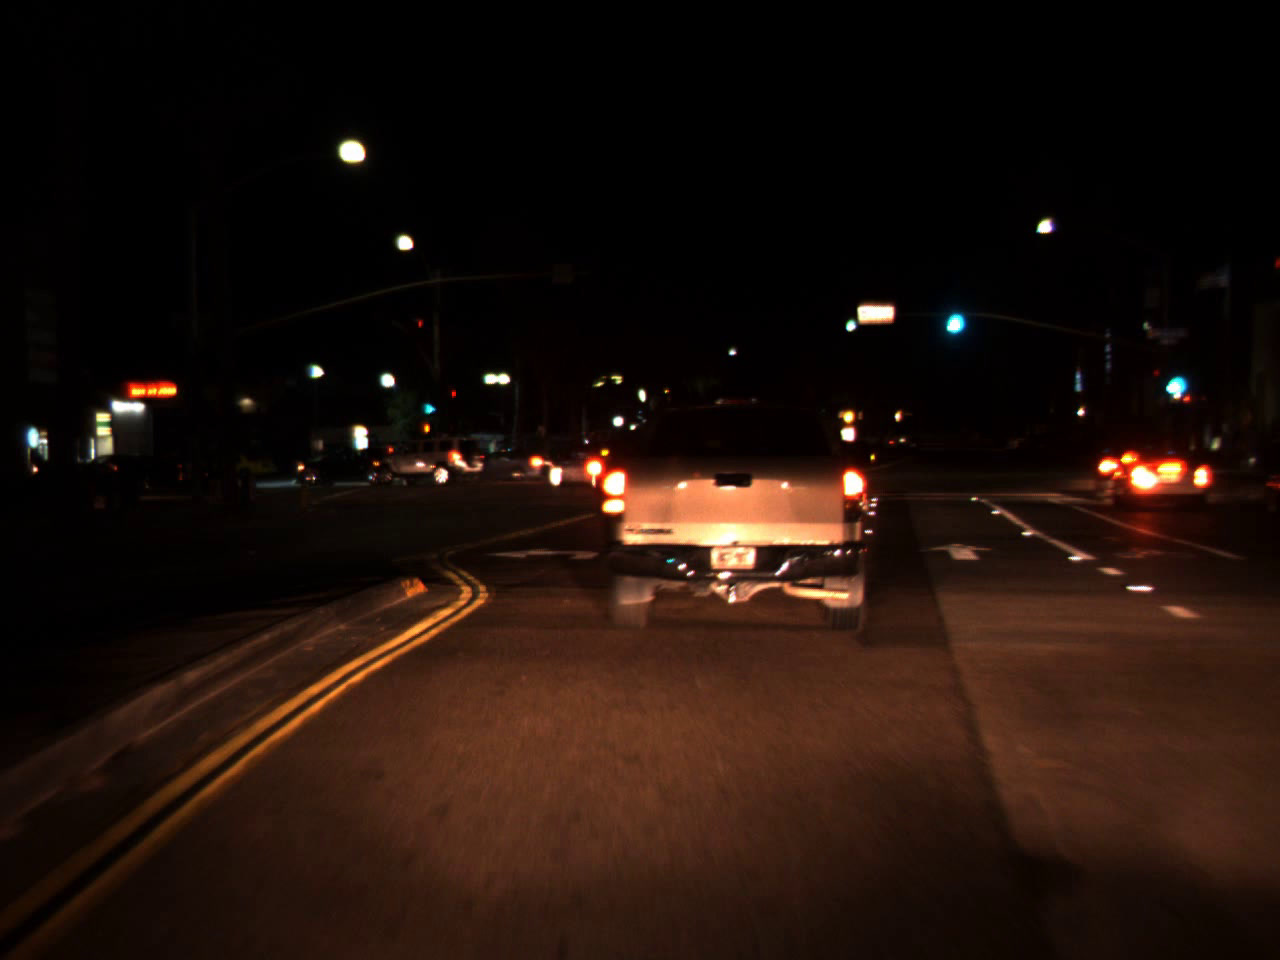go: (938, 288, 968, 342), (1156, 357, 1190, 399), (419, 385, 440, 421), (839, 302, 858, 335)
